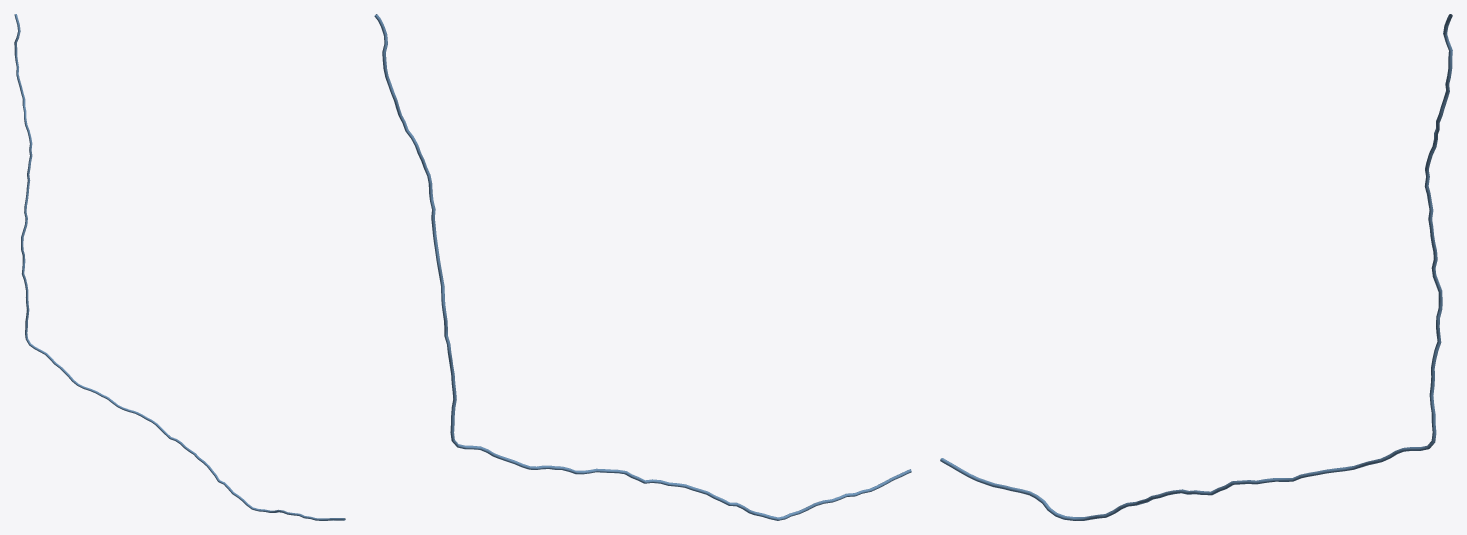
The model's file is sweep173.fbx.
3 renders of one model, left to right at view 1: azimuth 90°, elevation 25°; view 2: azimuth 150°, elevation 25°; view 3: azimuth 270°, elevation 25°, orthographic. The views are drawn at different scales.
Parts seen in each view (by area): view 1: sweep173; view 2: sweep173; view 3: sweep173.
Part boxes in pixels (box(x1,y1,x2,y2)): sweep173: box(14, 14, 345, 520); sweep173: box(374, 14, 911, 520); sweep173: box(940, 14, 1452, 520).
Bounding box in the file's own units: 1.96 × 3.43 × 2.49.
